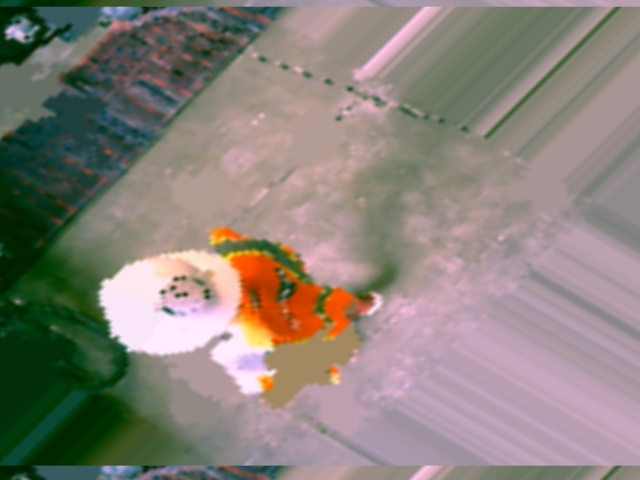three: (148, 269, 215, 320)
